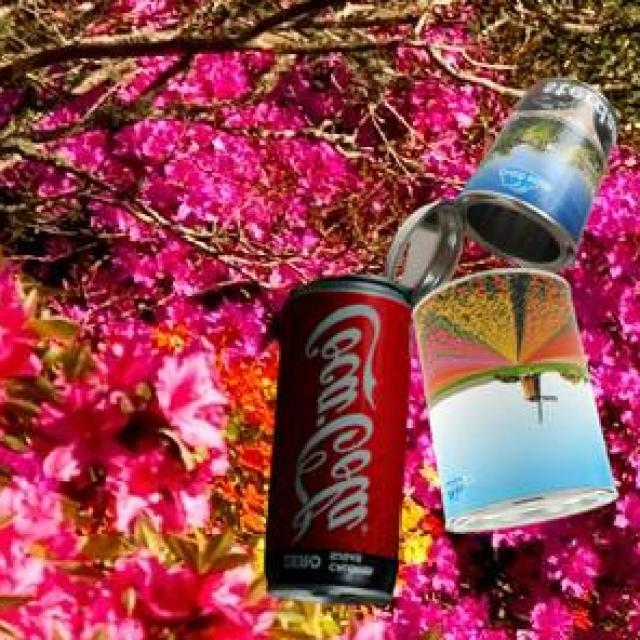logam: (388, 75, 622, 308), (416, 265, 622, 529), (267, 271, 416, 600)
